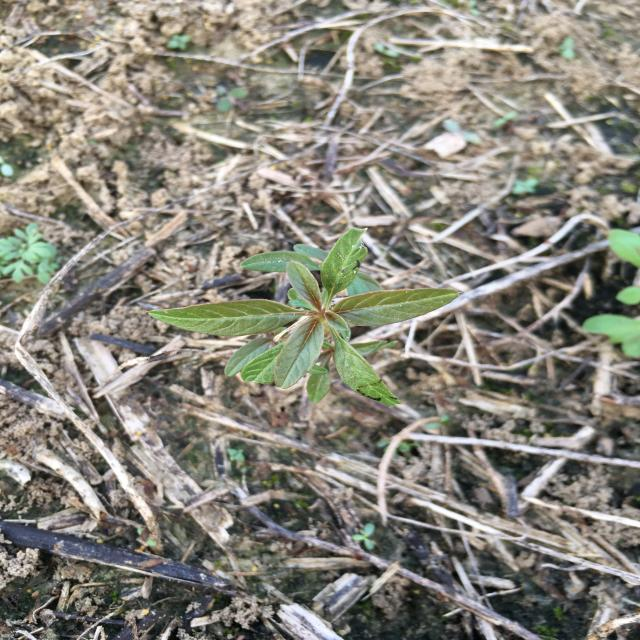Ragweed: (1, 223, 62, 286)
Waterhemp: (146, 226, 464, 409)
